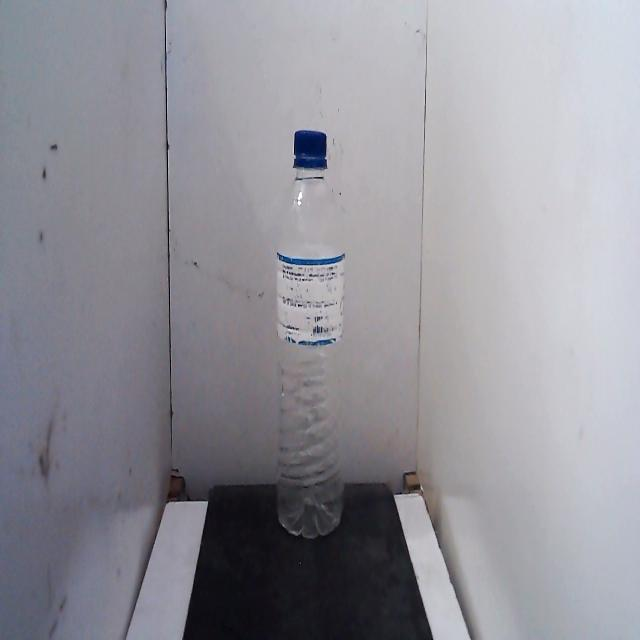plastico: (266, 122, 356, 549)
